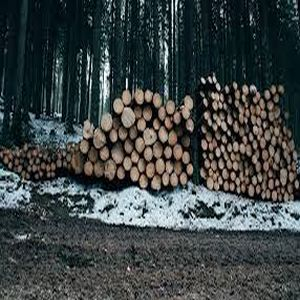log: (120, 108, 136, 128), (92, 129, 107, 149), (110, 144, 124, 165), (81, 119, 94, 141), (143, 128, 158, 147), (103, 160, 116, 181), (99, 112, 113, 130), (71, 154, 83, 174), (278, 167, 290, 187), (111, 98, 125, 115), (85, 146, 98, 162), (141, 107, 154, 123), (134, 89, 146, 106), (157, 126, 168, 144), (179, 135, 192, 150), (81, 161, 93, 177), (115, 165, 127, 181), (154, 159, 166, 175), (145, 162, 156, 179), (152, 142, 163, 159), (122, 90, 133, 107), (133, 138, 146, 152), (78, 140, 90, 155), (94, 161, 104, 179), (123, 139, 135, 154), (117, 126, 128, 142), (156, 105, 167, 121), (171, 111, 183, 125), (122, 157, 133, 172), (162, 144, 173, 159), (169, 172, 179, 188), (172, 144, 182, 160), (167, 130, 177, 146), (166, 99, 176, 115), (153, 92, 163, 108), (99, 147, 111, 160), (180, 151, 192, 164), (107, 130, 118, 144), (128, 125, 138, 140), (136, 118, 146, 133), (183, 95, 193, 110), (173, 162, 184, 175), (132, 106, 143, 119), (151, 117, 162, 130), (180, 106, 191, 119), (130, 167, 140, 181), (138, 174, 148, 188), (151, 176, 161, 190), (143, 147, 153, 161), (143, 89, 153, 103), (161, 172, 170, 187), (130, 151, 141, 163), (276, 84, 286, 97), (247, 185, 257, 198), (180, 171, 189, 185), (165, 160, 174, 174), (138, 159, 147, 173), (265, 100, 276, 111), (163, 117, 173, 129), (186, 163, 195, 176), (185, 118, 194, 131), (287, 171, 296, 184), (266, 178, 275, 191), (231, 120, 239, 134), (252, 92, 262, 103), (197, 75, 206, 87), (257, 137, 266, 149), (216, 158, 225, 170), (222, 181, 230, 194), (250, 126, 260, 136), (248, 84, 257, 95), (263, 130, 272, 141), (220, 169, 229, 180), (206, 177, 213, 191), (269, 85, 277, 97), (258, 98, 266, 110), (272, 151, 279, 164), (255, 161, 262, 174), (267, 112, 276, 122), (64, 153, 72, 164), (225, 94, 233, 105), (264, 89, 272, 100), (253, 105, 261, 116), (259, 109, 267, 120), (237, 114, 245, 125), (200, 140, 208, 151), (238, 144, 246, 155), (247, 132, 255, 143), (250, 139, 258, 150), (261, 150, 269, 161), (209, 161, 217, 172), (232, 161, 240, 172), (250, 154, 258, 165), (229, 171, 237, 182), (215, 145, 221, 159), (268, 145, 275, 157), (271, 190, 278, 202), (260, 121, 269, 130), (31, 148, 39, 158), (49, 162, 57, 172), (199, 90, 207, 100), (200, 98, 208, 108), (214, 82, 222, 92), (210, 92, 220, 100), (225, 116, 233, 126), (213, 131, 221, 141), (220, 135, 228, 145), (231, 142, 239, 152), (238, 127, 246, 137), (269, 136, 277, 146), (280, 140, 288, 150), (225, 160, 233, 170), (56, 159, 63, 170), (241, 84, 248, 95), (244, 108, 251, 119), (285, 154, 292, 165), (262, 161, 269, 172), (234, 185, 241, 196), (256, 172, 263, 183), (259, 190, 266, 201), (6, 162, 14, 171), (240, 136, 248, 145), (207, 153, 216, 161), (203, 160, 211, 169), (2, 155, 9, 165), (16, 165, 23, 175), (215, 116, 222, 126), (223, 84, 230, 94), (233, 90, 240, 100), (250, 115, 257, 125), (274, 127, 281, 137), (229, 182, 235, 193), (240, 182, 246, 193), (251, 175, 257, 186), (255, 184, 261, 195), (7, 153, 15, 161), (240, 95, 248, 103), (207, 143, 215, 151), (222, 152, 230, 160), (201, 126, 208, 135), (232, 82, 239, 91), (204, 134, 213, 141), (226, 143, 233, 152), (291, 152, 298, 161), (293, 180, 300, 189), (219, 92, 225, 102), (211, 112, 217, 122), (264, 190, 270, 200), (283, 193, 289, 203), (40, 163, 47, 171), (203, 111, 210, 119), (200, 153, 208, 160), (229, 153, 236, 161), (266, 170, 273, 178), (14, 159, 20, 168), (217, 102, 223, 111), (280, 187, 286, 196), (25, 165, 32, 172), (24, 173, 31, 180), (32, 165, 38, 173), (206, 76, 212, 84), (213, 120, 217, 132), (213, 103, 218, 112), (220, 144, 225, 153), (28, 158, 34, 165), (33, 173, 39, 180), (45, 172, 51, 179), (50, 172, 56, 179), (213, 181, 217, 191), (207, 170, 213, 176), (272, 164, 277, 169)
